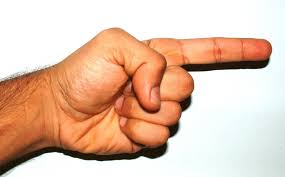hand: (31, 3, 280, 156)
